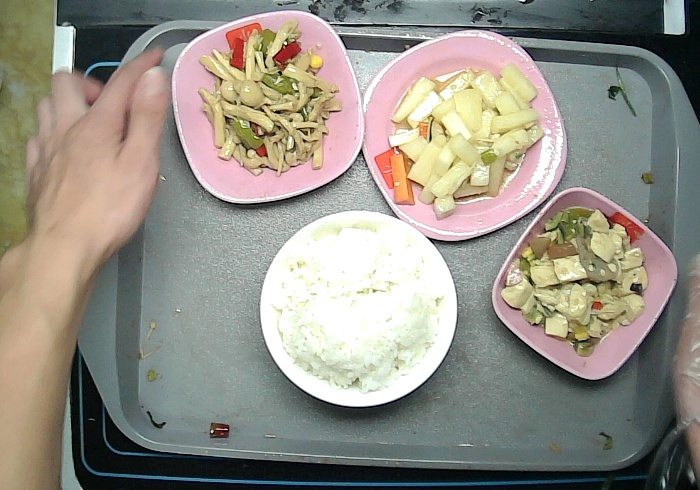SHKJ-Fan_Wan: (256, 209, 460, 409)
SHKJ-Fen_Se_Cai_Die: (170, 9, 365, 204)
SHKJ-Fen_Se_Si_Fang_Cai_Die: (358, 29, 569, 241)
SHKJ-Fen_Se_Xiao_Fang_Die: (489, 186, 680, 382)
